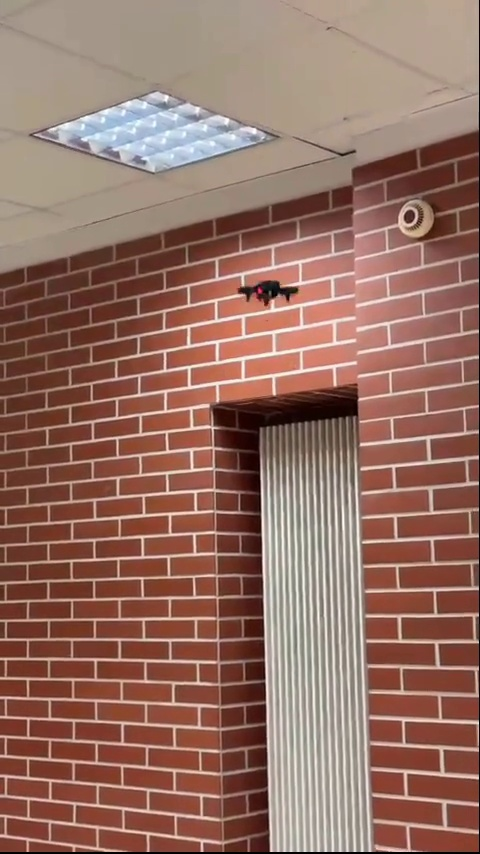drone: (239, 279, 296, 306)
